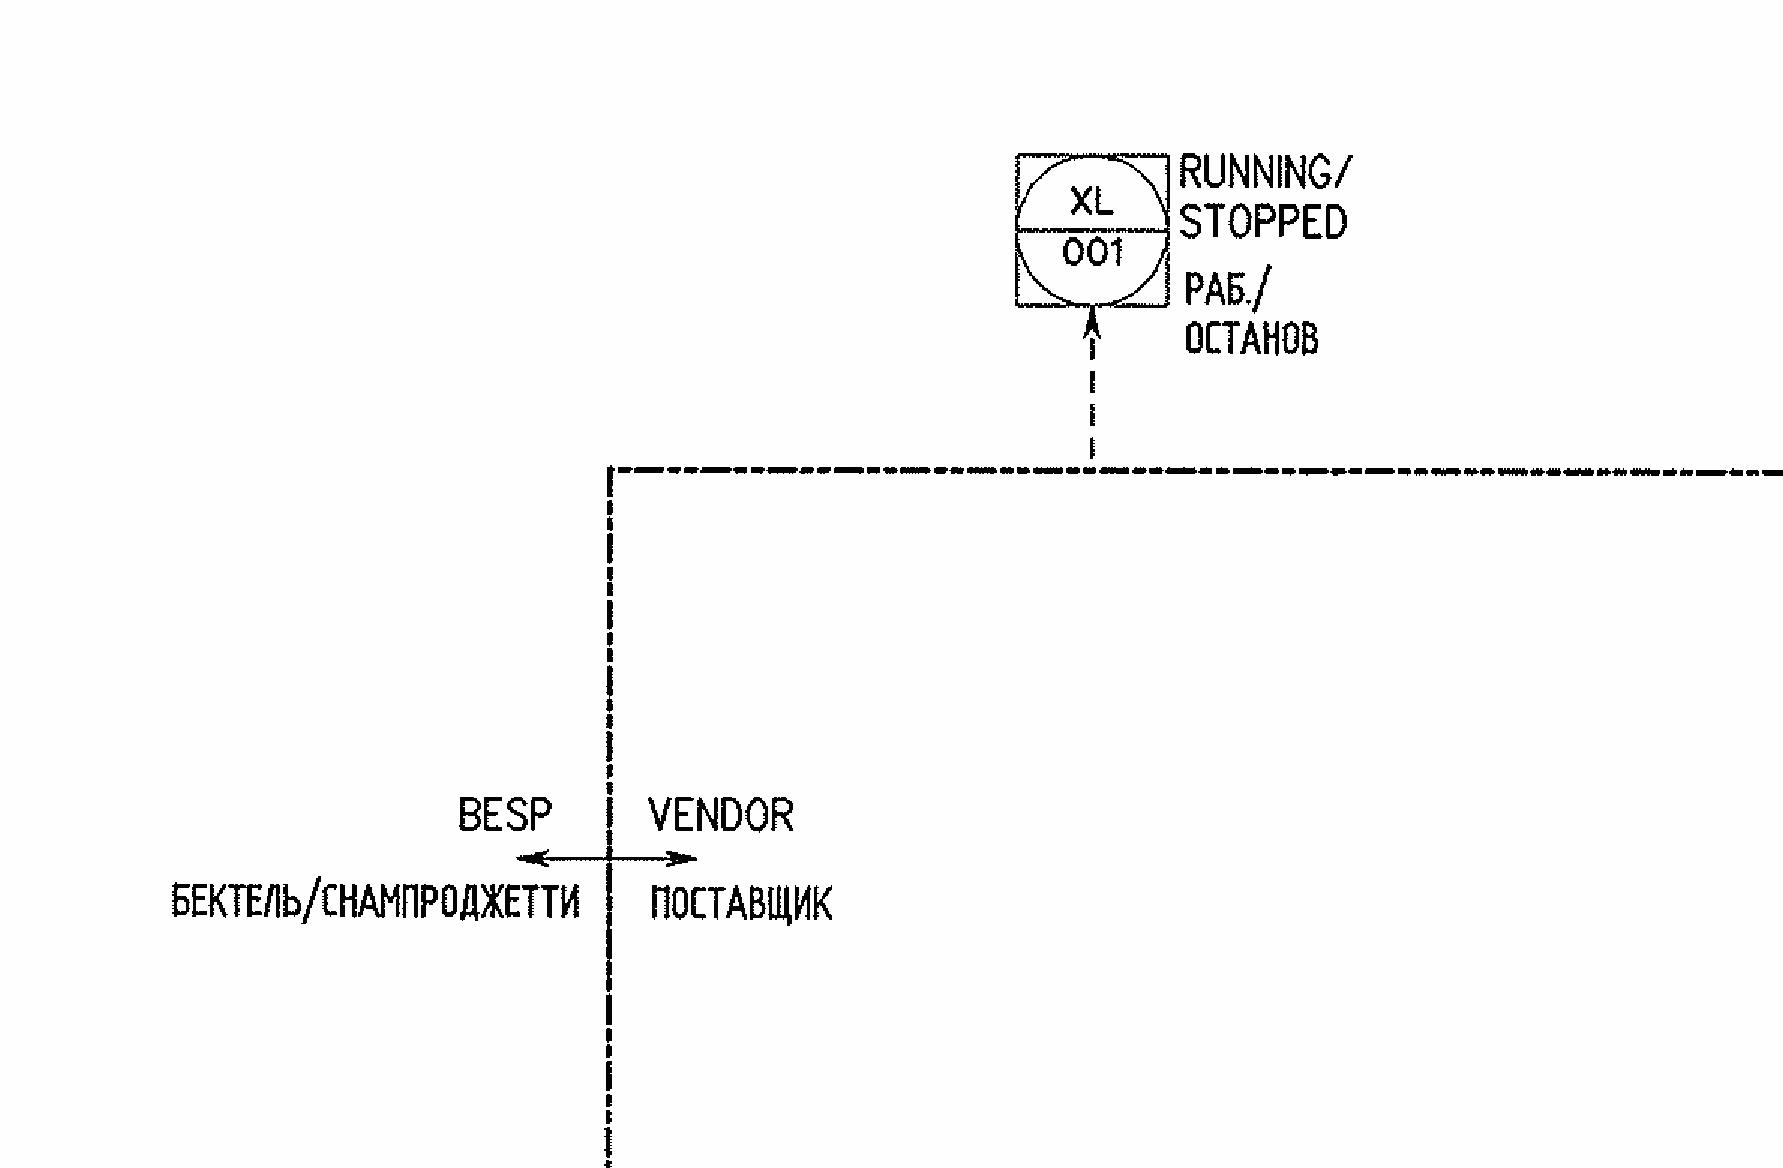DCS ACCESSIBLE: (1002, 130, 1183, 326)
